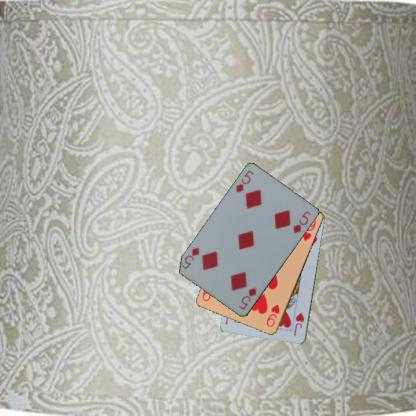5d: (235, 286, 258, 312), (233, 168, 255, 194)
9h: (264, 301, 281, 328)
Jh: (290, 310, 306, 337)
